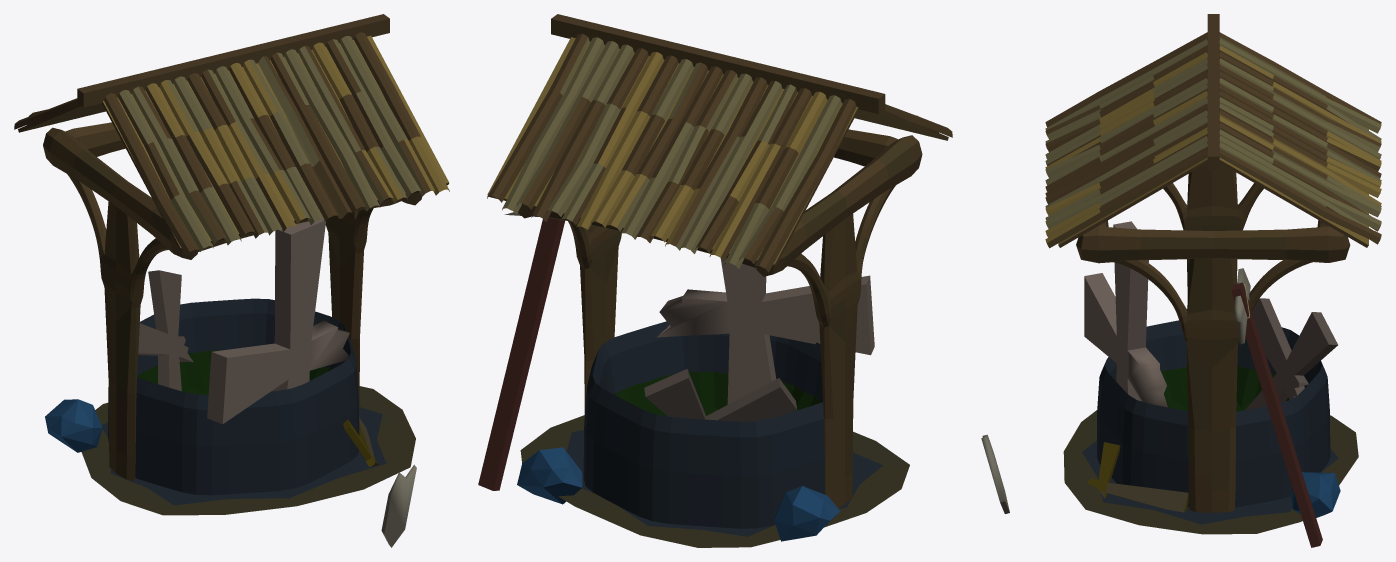
Rendered from Pit_destroyed.fbx.
3 views of the same model, side by side, from view 1: azimuth 30°, elevation 25°; view 2: azimuth 150°, elevation 25°; view 3: azimuth 270°, elevation 25° (orthographic). The views are drawn at different scales.
Parts seen in each view (by area): view 1: Plane.001; view 2: Plane.001; view 3: Plane.001.
Part boxes in pixels (x1,y1,x2,y2): Plane.001: (14, 14, 449, 547); Plane.001: (478, 14, 952, 547); Plane.001: (981, 14, 1381, 547).
Bounding box in the file's own units: 210 × 254 × 227.
